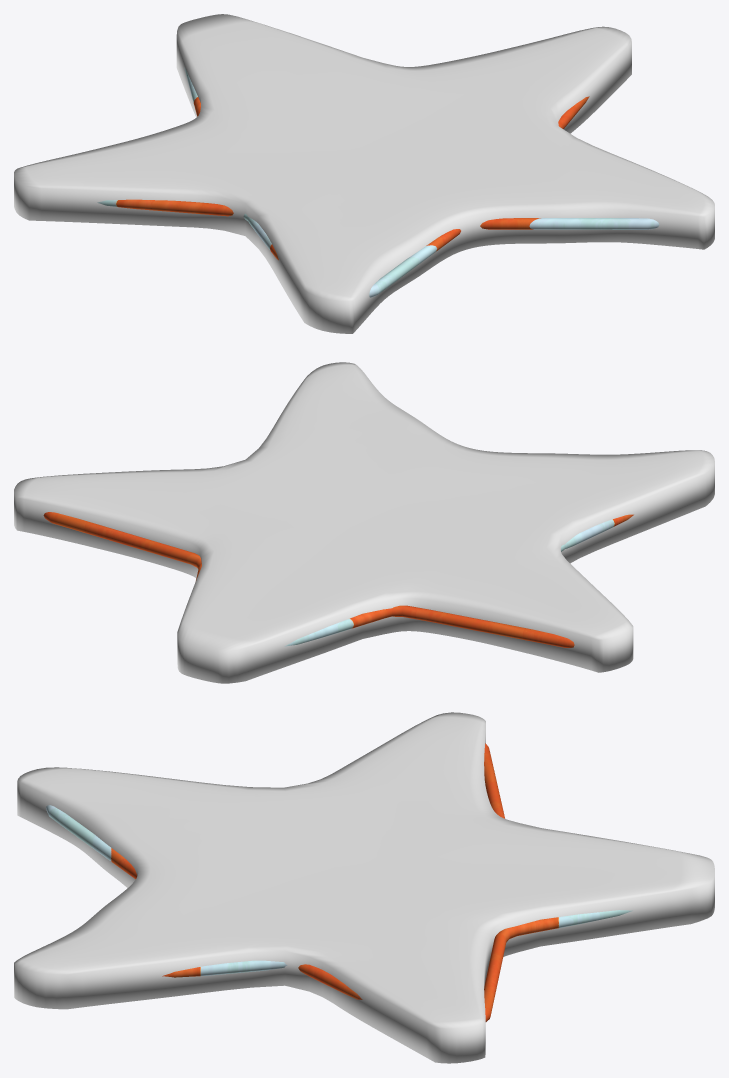
Rendered from Placa de presión.fbx.
3 renders of one model, top to bottom at view 1: azimuth 30°, elevation 25°; view 2: azimuth 150°, elevation 25°; view 3: azimuth 270°, elevation 25°, orthographic. The views are drawn at different scales.
Visible parts, largest first — view 1: Plane.002, Plane.001; view 2: Plane.002, Plane.001; view 3: Plane.002, Plane.001.
Part boxes in pixels (left/top/right/bottom): Plane.002: left=14, top=14, right=714, bottom=333; Plane.001: left=97, top=67, right=659, bottom=297; Plane.002: left=14, top=362, right=714, bottom=683; Plane.001: left=43, top=512, right=633, bottom=647; Plane.002: left=14, top=712, right=714, bottom=1063; Plane.001: left=46, top=743, right=632, bottom=1021.
Bounding box in the file's own units: 4.7 × 0.2644 × 4.4.
